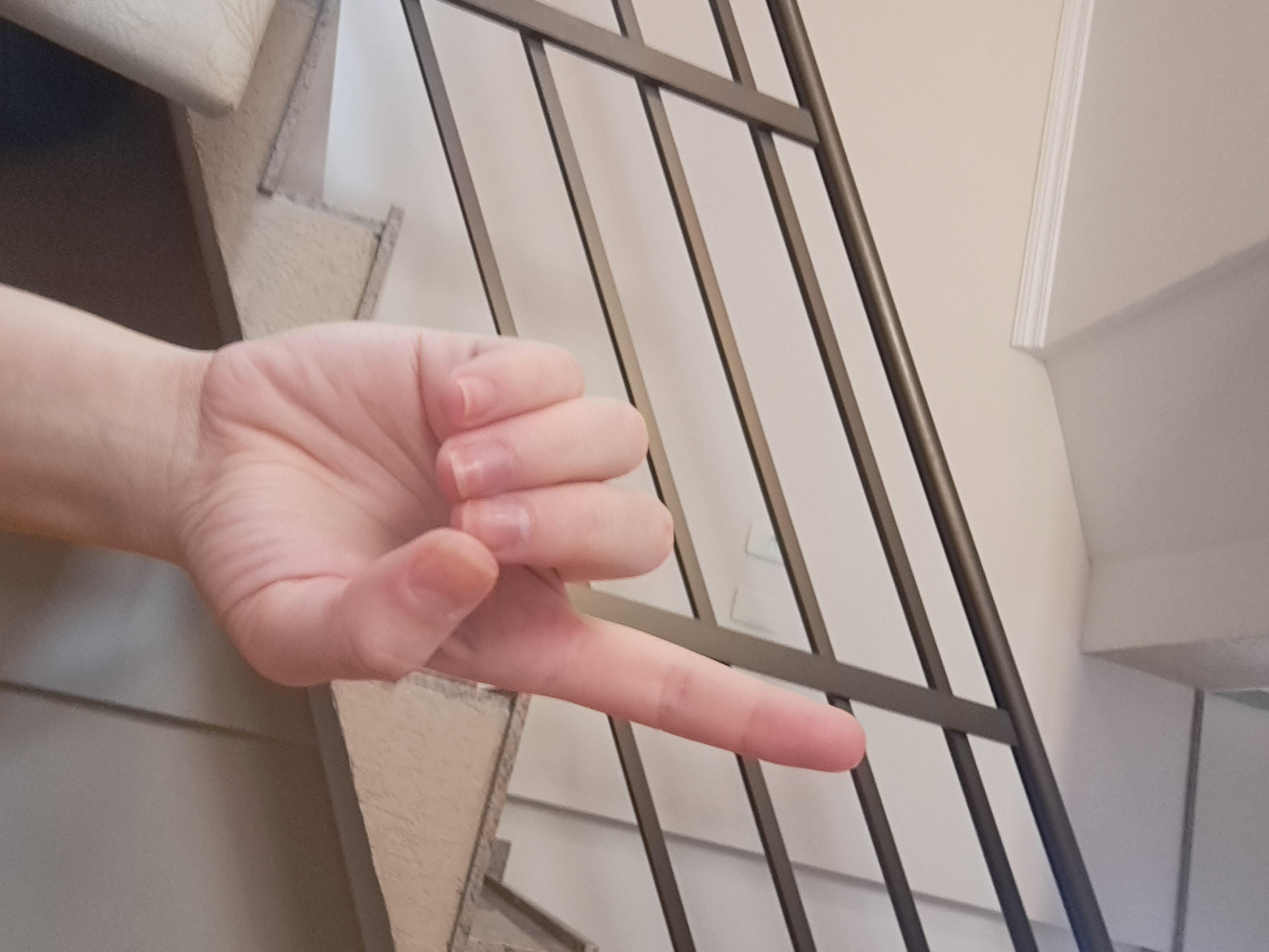D2: (410, 286, 1026, 817)
